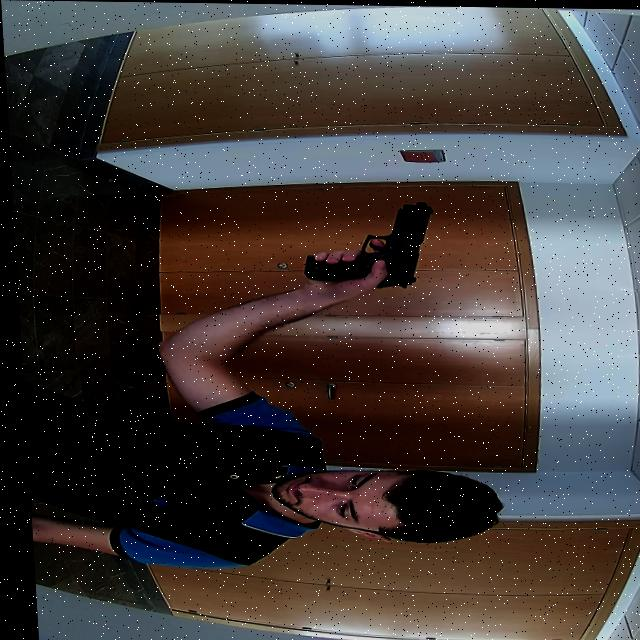pistol: (352, 199, 436, 289)
